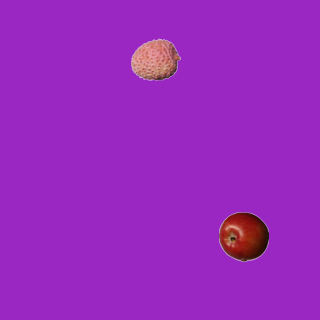Apple Braeburn: (218, 211, 268, 261)
Lychee: (130, 34, 180, 84)
